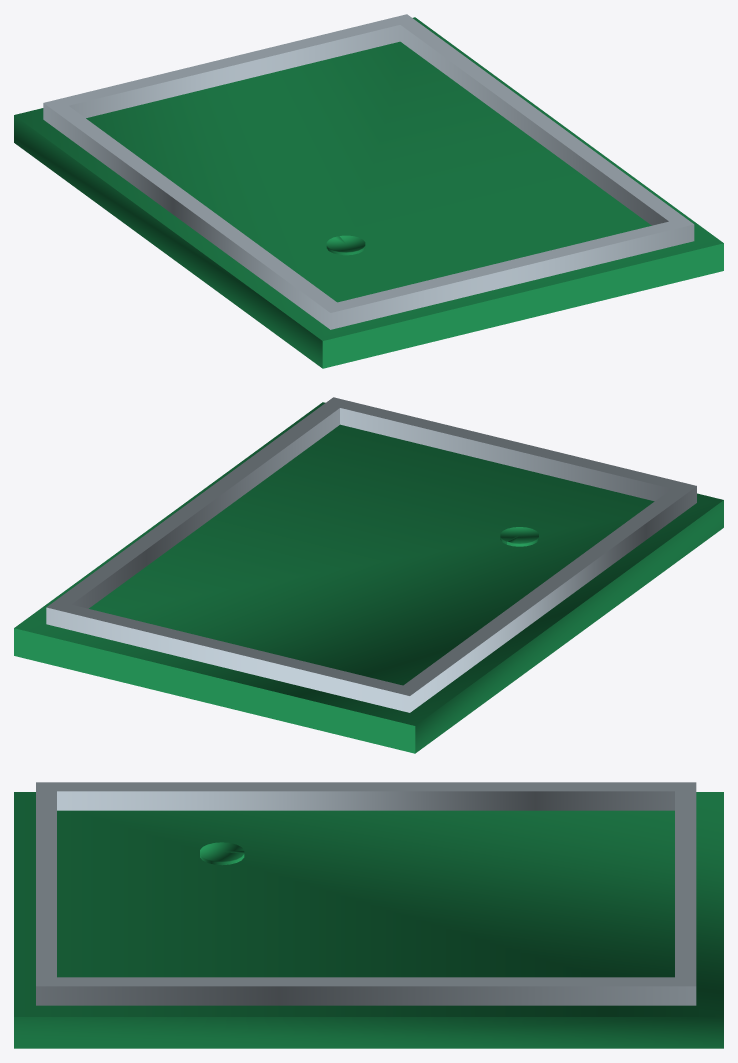
Rendered from Level11.fbx.
3 renders of one model, top to bottom at view 1: azimuth 30°, elevation 25°; view 2: azimuth 150°, elevation 25°; view 3: azimuth 270°, elevation 25°, orthographic. The views are drawn at different scales.
Visible parts, largest first — view 1: Box002, Rectangle0; view 2: Box002, Rectangle0; view 3: Box002, Rectangle0.
Boxes of the visible parts, left/top/right/bottom form: Box002: left=14, top=17, right=723, bottom=368; Rectangle0: left=43, top=14, right=694, bottom=329; Box002: left=14, top=402, right=723, bottom=753; Rectangle0: left=46, top=397, right=696, bottom=712; Box002: left=14, top=792, right=723, bottom=1048; Rectangle0: left=36, top=782, right=696, bottom=1005.
Bounding box in the file's own units: 135 × 14.27 × 180.
